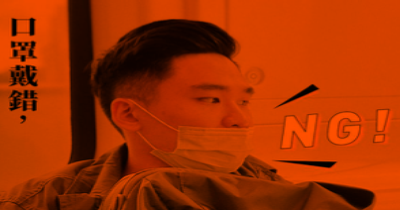mask_weared_incorrect: (149, 81, 255, 173)
